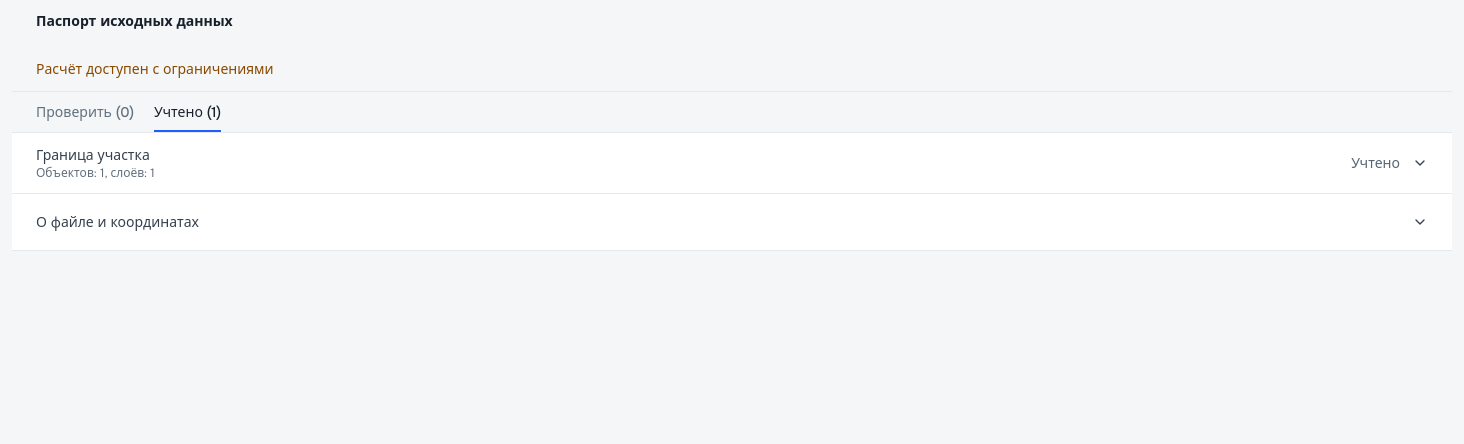
DataPassportPanel › separates display parts from source objects and never trusts the legacy used counter
The image size is (1464, 444).
Click the button "Граница участка Объектов: 1, слоёв: 1 Учтено": (93, 155) x1=12 y1=133 x2=1452 y2=193
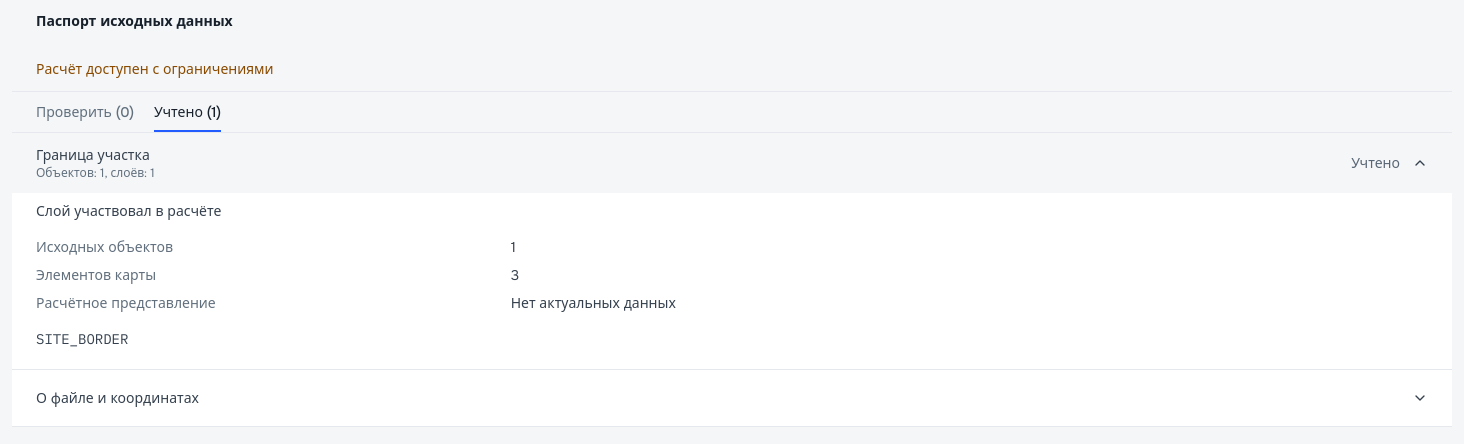
Now the text "Исходных объектов" is shown, box x1=36 y1=238 x2=173 y2=256
Now the text "Элементов карты" is shown, box x1=36 y1=266 x2=156 y2=284
Now the text "3" is shown, box x1=511 y1=266 x2=519 y2=284
